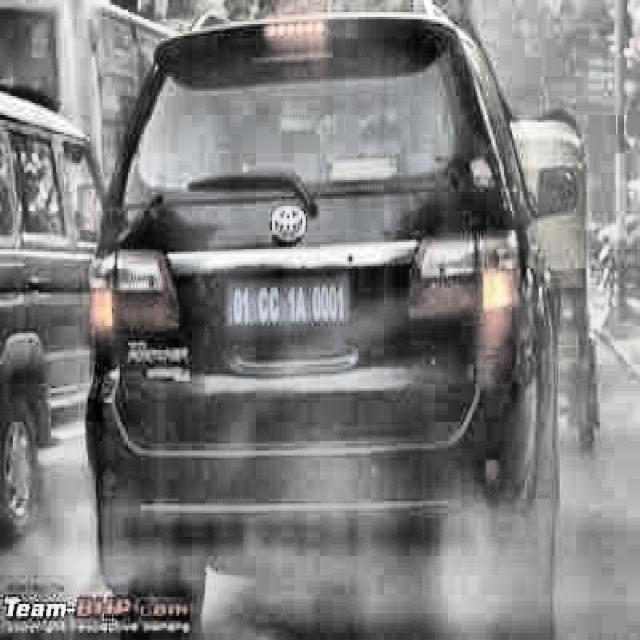license_plate: (230, 281, 348, 332)
